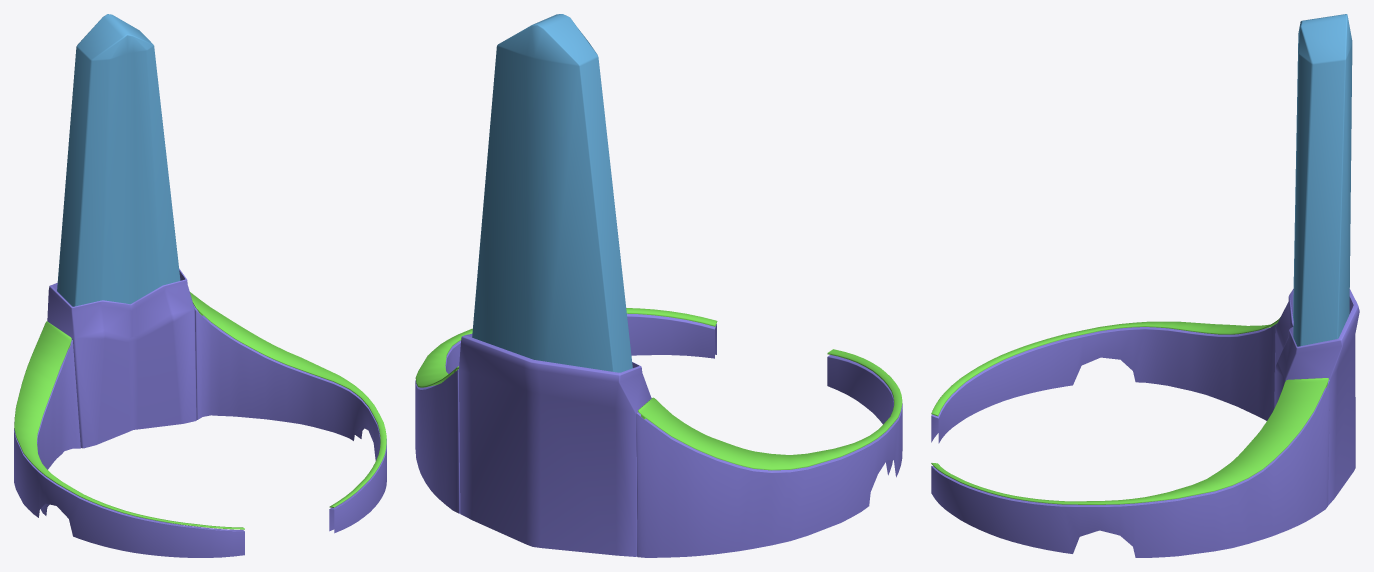
File: Lb_Structure.fbx
3 renders of one model, left to right at view 1: azimuth 30°, elevation 25°; view 2: azimuth 150°, elevation 25°; view 3: azimuth 270°, elevation 25°, orthographic. The views are drawn at different scales.
Parts seen in each view (by area): view 1: Lb_Structure; view 2: Lb_Structure; view 3: Lb_Structure.
Part boxes in pixels (bbox=[...]): Lb_Structure: bbox=[14, 14, 386, 557]; Lb_Structure: bbox=[415, 14, 902, 557]; Lb_Structure: bbox=[931, 14, 1359, 557].
Bounding box in the file's own units: 11738 × 13776 × 11799.
